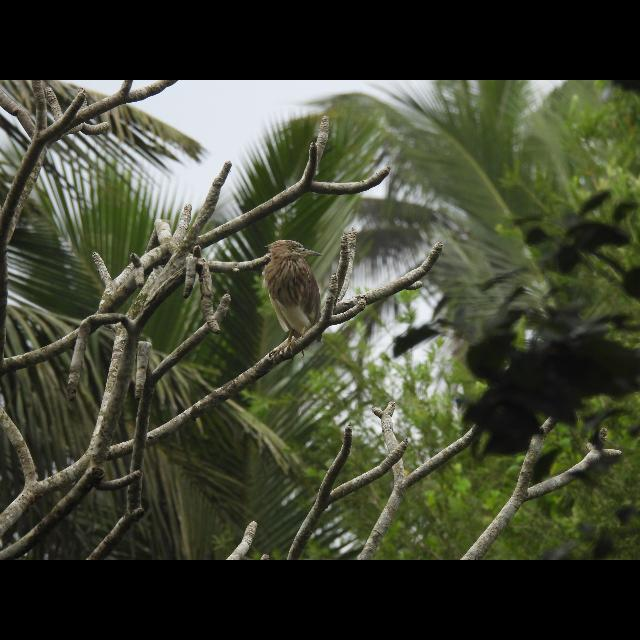heron: (255, 237, 329, 353)
